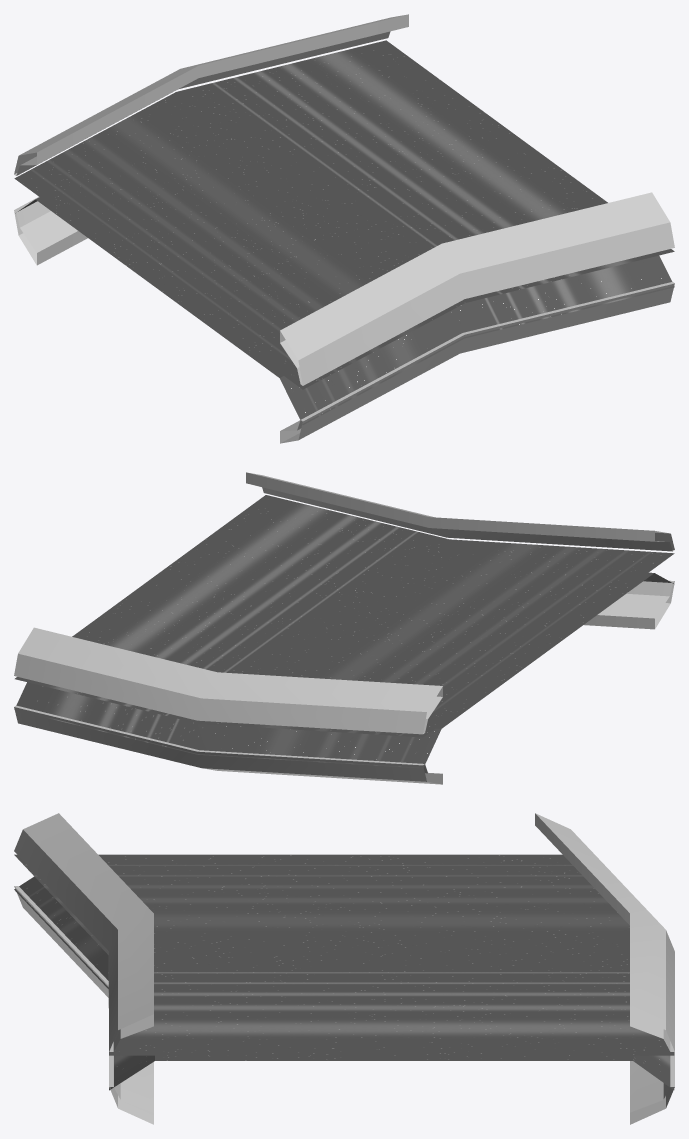
The model's file is Left_Road.fbx.
3 renders of one model, top to bottom at view 1: azimuth 30°, elevation 25°; view 2: azimuth 150°, elevation 25°; view 3: azimuth 270°, elevation 25°, orthographic. The views are drawn at different scales.
Visible parts, largest first — view 1: HoloRoad, RightTurn; view 2: HoloRoad, RightTurn; view 3: HoloRoad, RightTurn.
Part boxes in pixels (bbox=[...]): HoloRoad: bbox=[14, 40, 674, 424]; RightTurn: bbox=[14, 14, 674, 443]; HoloRoad: bbox=[14, 495, 674, 768]; RightTurn: bbox=[14, 472, 674, 784]; HoloRoad: bbox=[14, 854, 674, 1090]; RightTurn: bbox=[14, 813, 674, 1124].
Size of the model in its own units: 10 by 2.57 by 13.9.
